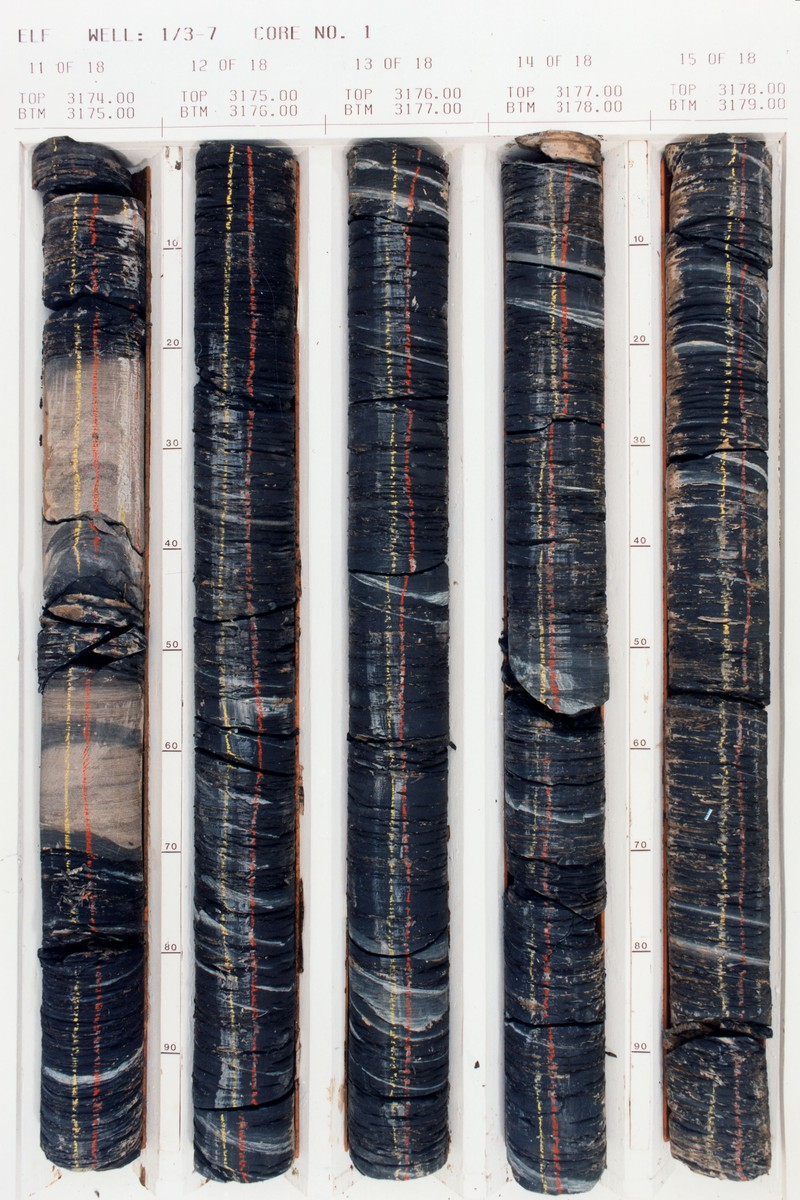core: (26, 136, 154, 1167), (661, 140, 777, 1183), (191, 141, 303, 1184), (344, 140, 456, 1178), (500, 138, 609, 1199)
